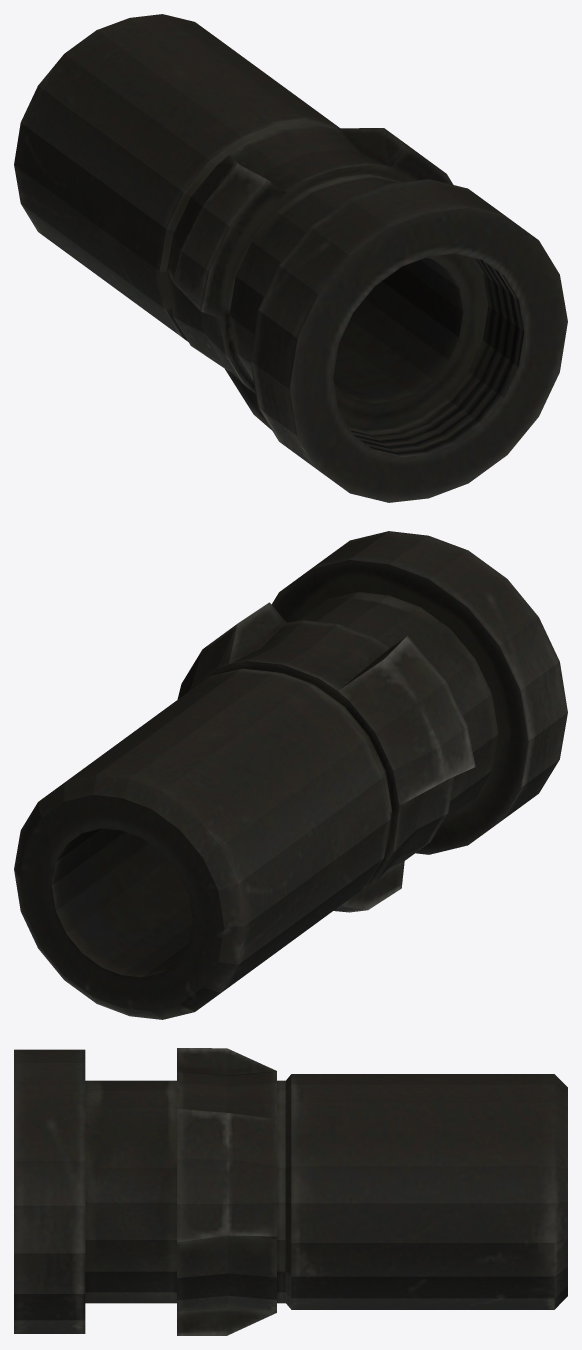
3 renders of one model, top to bottom at view 1: azimuth 30°, elevation 25°; view 2: azimuth 150°, elevation 25°; view 3: azimuth 270°, elevation 25°, orthographic. The views are drawn at different scales.
Visible parts, largest first — view 1: TW_5926e16e86f7742f5a0f7ecb_PZ_Import; view 2: TW_5926e16e86f7742f5a0f7ecb_PZ_Import; view 3: TW_5926e16e86f7742f5a0f7ecb_PZ_Import.
Boxes of the visible parts, x1,y1,x2,y2 form: TW_5926e16e86f7742f5a0f7ecb_PZ_Import: (14, 14, 567, 502); TW_5926e16e86f7742f5a0f7ecb_PZ_Import: (14, 531, 567, 1019); TW_5926e16e86f7742f5a0f7ecb_PZ_Import: (14, 1048, 567, 1335).
Size of the model in its own units: 0.0107 by 0.0204 by 0.0105.
Materials: 1 (1 with a texture image).
